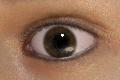eye: (43, 26, 76, 59)
